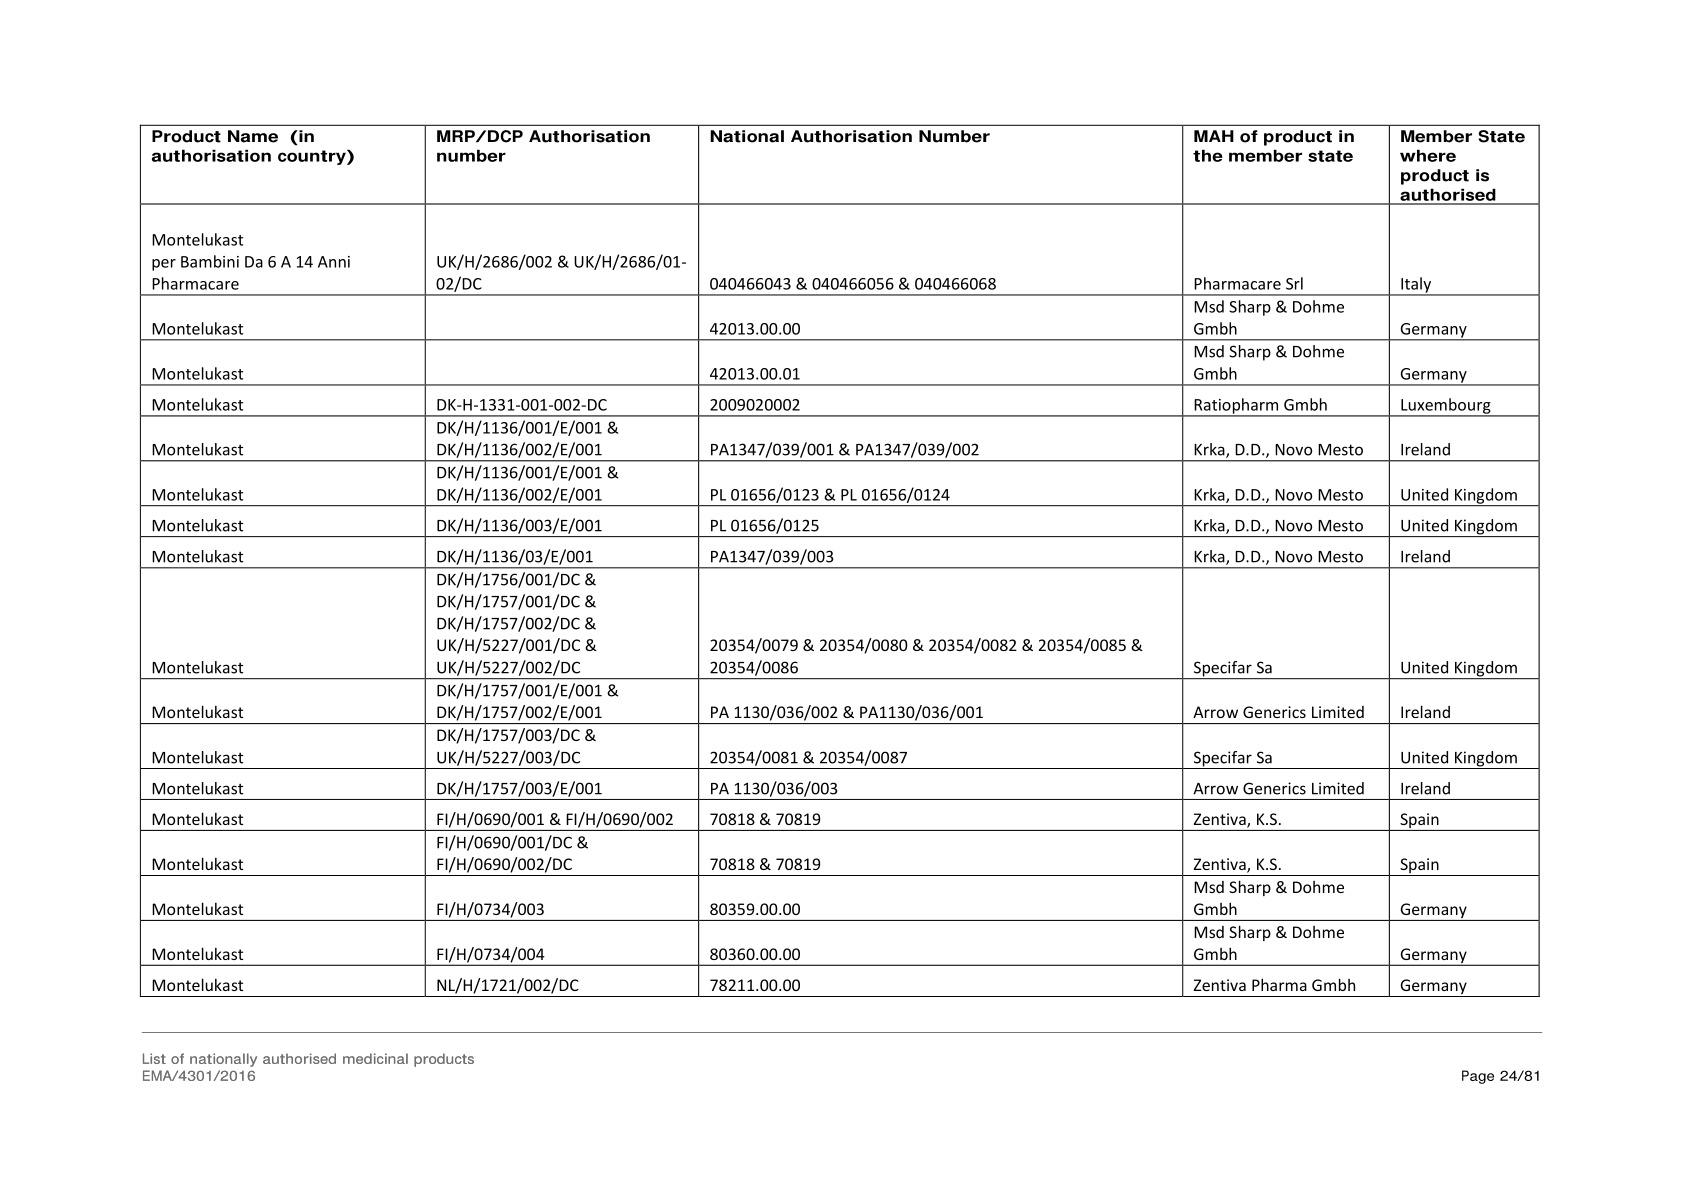full_lined: (138, 124, 1540, 998)
